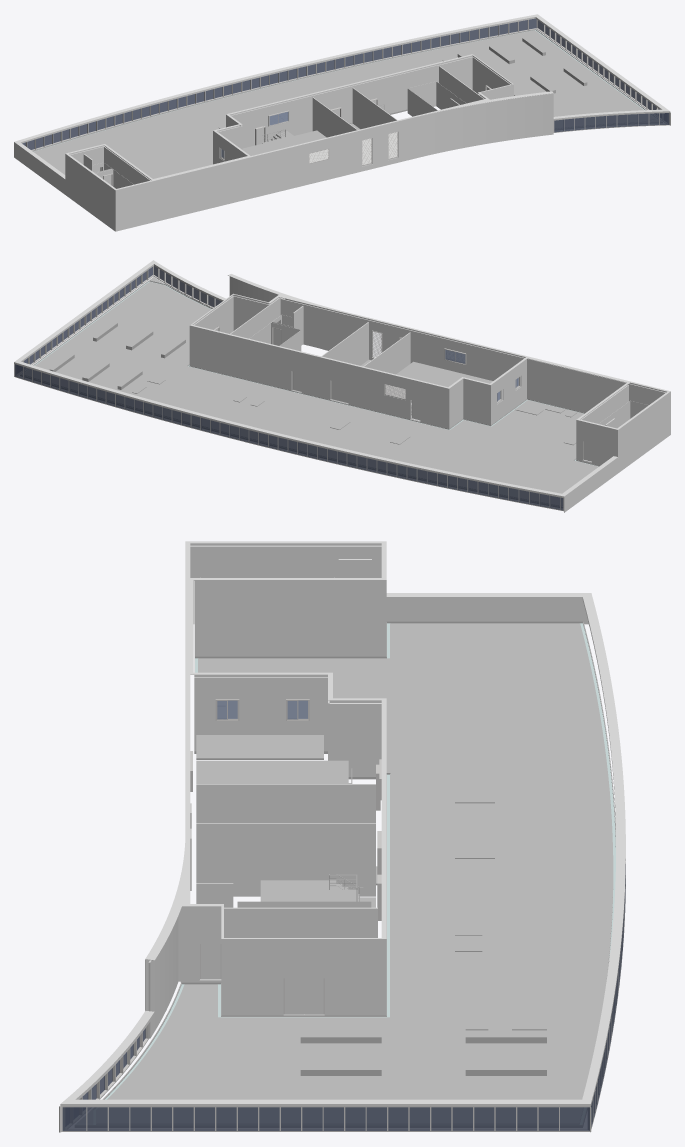
The picture shows the model from 3 angles, top to bottom: view 1: azimuth 30°, elevation 25°; view 2: azimuth 150°, elevation 25°; view 3: azimuth 270°, elevation 25°; orthographic projection. The views are drawn at different scales.
Parts seen in each view (by area): view 1: A8_RF_outWall, A8_RF_Floor, A8_RF_Wall, A8_RF_Window, A8_RF_Vent, A8_RF_Door; view 2: A8_RF_Floor, A8_RF_outWall, A8_RF_Wall, A8_RF_Window, A8_RF_Door, A8_RF_Vent; view 3: A8_RF_Floor, A8_RF_outWall, A8_RF_Wall, A8_RF_Window, A8_RF_Door.
Boxes of the visible parts, x1,y1,x2,y2 form: A8_RF_outWall: (14,14,670,231); A8_RF_Floor: (32,29,662,178); A8_RF_Wall: (70,56,510,188); A8_RF_Window: (22,18,670,159); A8_RF_Vent: (270,120,397,165); A8_RF_Door: (94,85,491,185); A8_RF_Floor: (20,277,599,507); A8_RF_outWall: (14,260,670,512); A8_RF_Wall: (194,276,665,462); A8_RF_Window: (14,266,563,511); A8_RF_Door: (214,321,591,461); A8_RF_Vent: (371,330,463,399); A8_RF_Floor: (75,621,615,1127); A8_RF_outWall: (60,541,625,1106); A8_RF_Wall: (148,545,381,1038); A8_RF_Window: (59,621,625,1132); A8_RF_Door: (200,764,381,1014).
Bounding box in the file's own units: 61.96 × 4.67 × 29.02.
